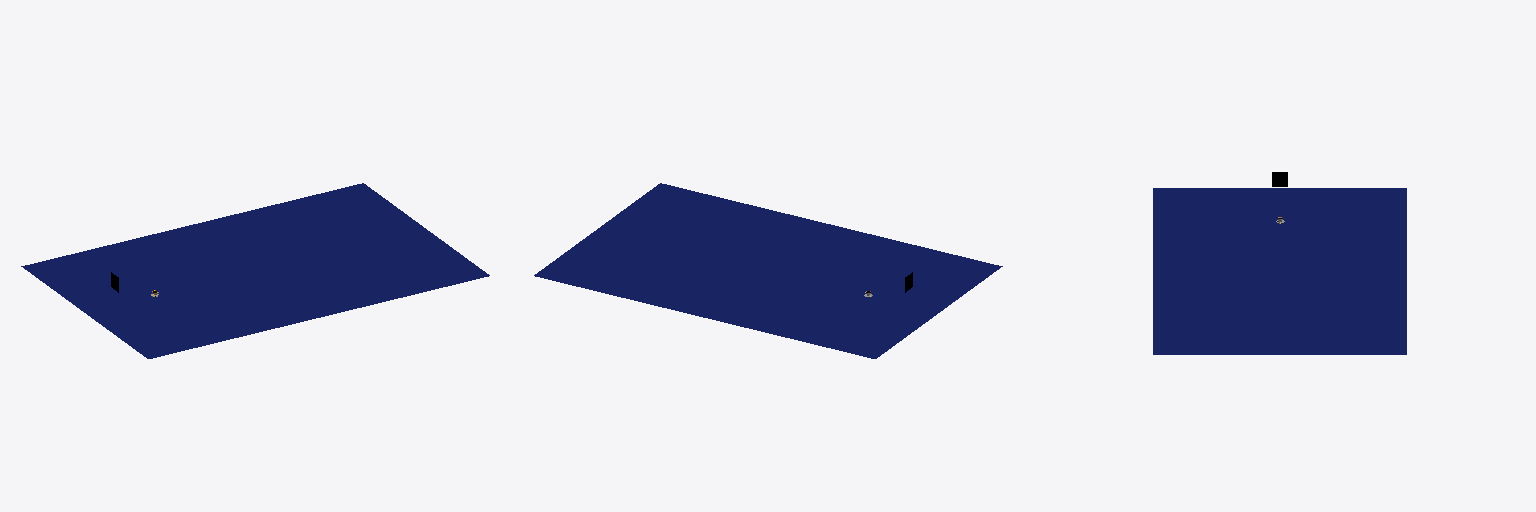
The model's file is cup.obj.
3 views of the same model, side by side, from view 1: azimuth 30°, elevation 25°; view 2: azimuth 150°, elevation 25°; view 3: azimuth 270°, elevation 25° (orthographic).
Visible parts, largest first — view 1: pCube1; view 2: pCube1; view 3: pCube1.
Part boxes in pixels (x1,y1,x2,y2): pCube1: (21,183,489,358); pCube1: (534,183,1002,358); pCube1: (1153,188,1406,354).
Size of the model in its own units: 23.68 by 2.02 by 15.22.